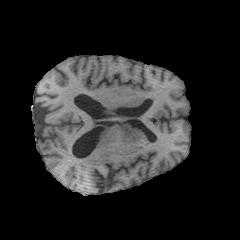glioma: (76, 115, 142, 172)
